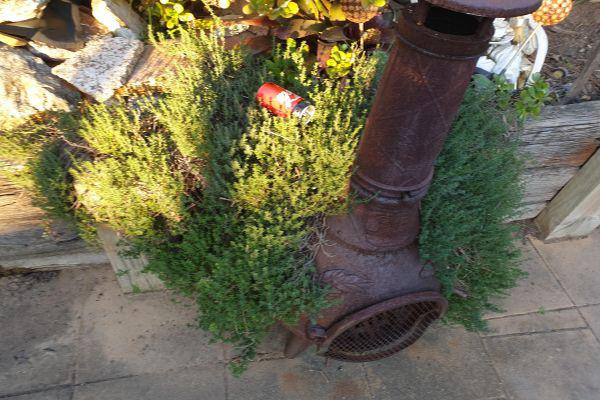Plastic Bottle: (253, 82, 316, 126)
